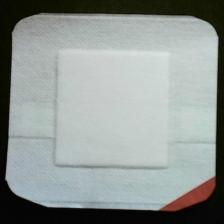Dressing: (4, 14, 220, 219)
Red_T: (161, 171, 219, 217)
